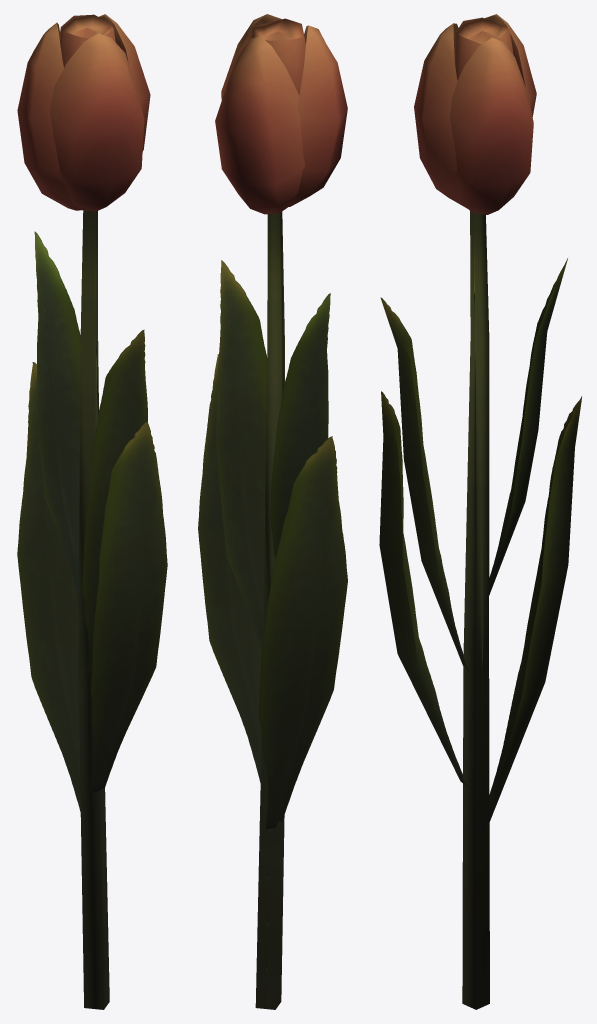
The model's file is Flower_B03.fbx.
3 views of the same model, side by side, from view 1: azimuth 30°, elevation 25°; view 2: azimuth 210°, elevation 25°; view 3: azimuth 270°, elevation 25° (orthographic).
Parts seen in each view (by area): view 1: Flower_B03; view 2: Flower_B03; view 3: Flower_B03.
Part boxes in pixels (bbox=[...]): Flower_B03: bbox=[17, 14, 167, 1009]; Flower_B03: bbox=[198, 14, 347, 1009]; Flower_B03: bbox=[379, 14, 581, 1009].
Size of the model in its own units: 4.77 by 37.82 by 7.15.
